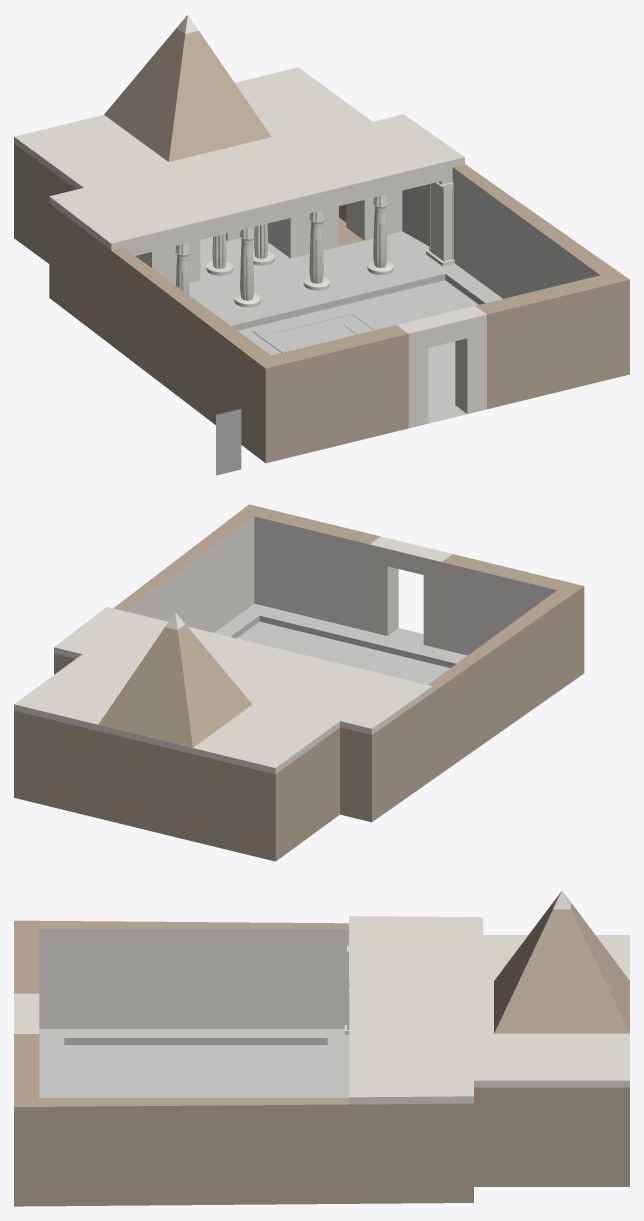
File: Amenemone_18.glb
The picture shows the model from 3 angles, top to bottom: view 1: azimuth 30°, elevation 25°; view 2: azimuth 150°, elevation 25°; view 3: azimuth 270°, elevation 25°; orthographic projection. The views are drawn at different scales.
Visible parts, largest first — view 1: Mesh15 Model, Mesh17 Model, Mesh13 Component_13_4 Model, Mesh7 Component_13_3 Model, Mesh5 Component_13_2 Model; view 2: Mesh15 Model; view 3: Mesh15 Model.
Boxes of the visible parts, x1=… form: Mesh15 Model: x1=14, y1=14, x2=629, y2=463; Mesh17 Model: x1=216, y1=409, x2=241, y2=475; Mesh13 Component_13_4 Model: x1=309, y1=210, x2=323, y2=283; Mesh7 Component_13_3 Model: x1=373, y1=194, x2=387, y2=267; Mesh5 Component_13_2 Model: x1=240, y1=227, x2=254, y2=300; Mesh15 Model: x1=14, y1=504, x2=584, y2=861; Mesh15 Model: x1=14, y1=891, x2=629, y2=1206.
Bounding box in the file's own units: 11.43 × 5.8 × 14.04.
